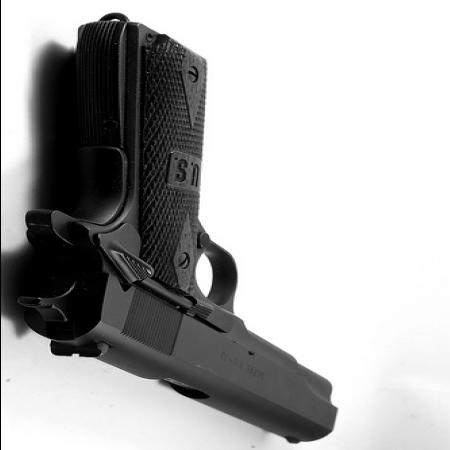Pistol: (12, 10, 339, 443)
